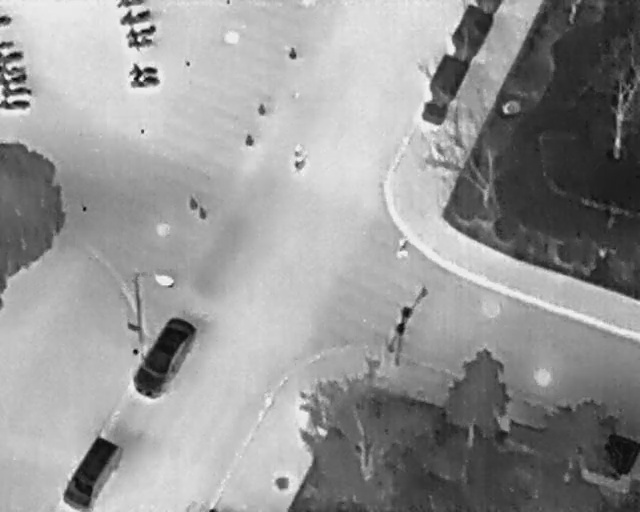Bicycle: (116, 5, 155, 26), (122, 20, 158, 41), (126, 58, 160, 76), (128, 72, 161, 90), (125, 33, 156, 51), (0, 84, 33, 98), (0, 98, 33, 111), (0, 48, 25, 65), (0, 73, 29, 86), (0, 64, 26, 76), (115, 0, 146, 8), (0, 39, 17, 49), (0, 14, 14, 26)
Car: (125, 308, 203, 407), (59, 430, 128, 511)
Person: (397, 237, 409, 258), (295, 157, 306, 172), (295, 142, 304, 159)
